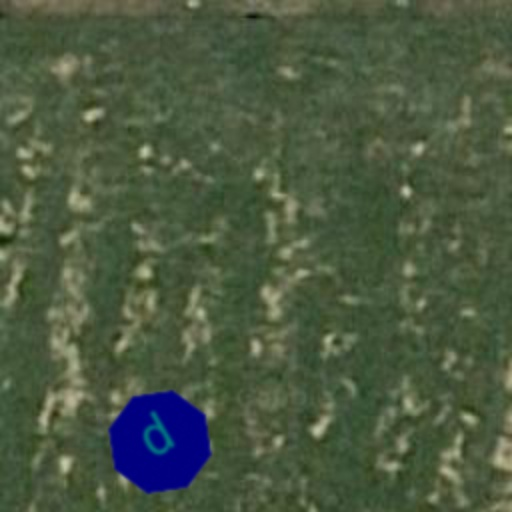octagon: (86, 366, 234, 512)
